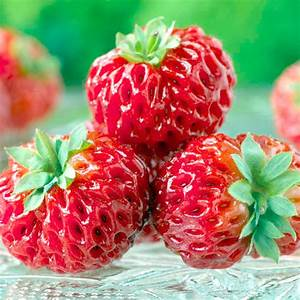Fresa: (80, 15, 261, 162), (3, 123, 154, 276), (144, 126, 300, 274)
